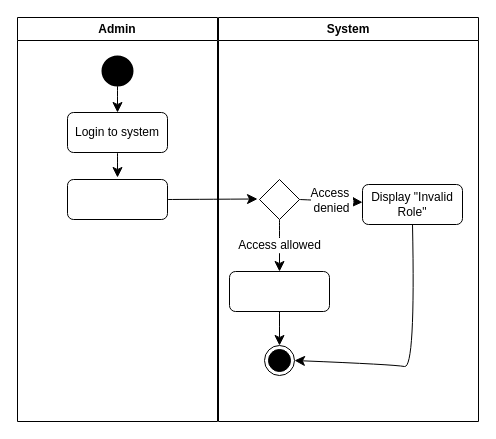
The diagram is 496 pixels wide and 439 high, and some of its shapes have lost their labels. The shapes that lost their labels are listed below. From the top down, each one's centre as x and y in pixels, then its label:
At pixel 117 199: "Select Profile".
At pixel 279 291: "Display menu".
